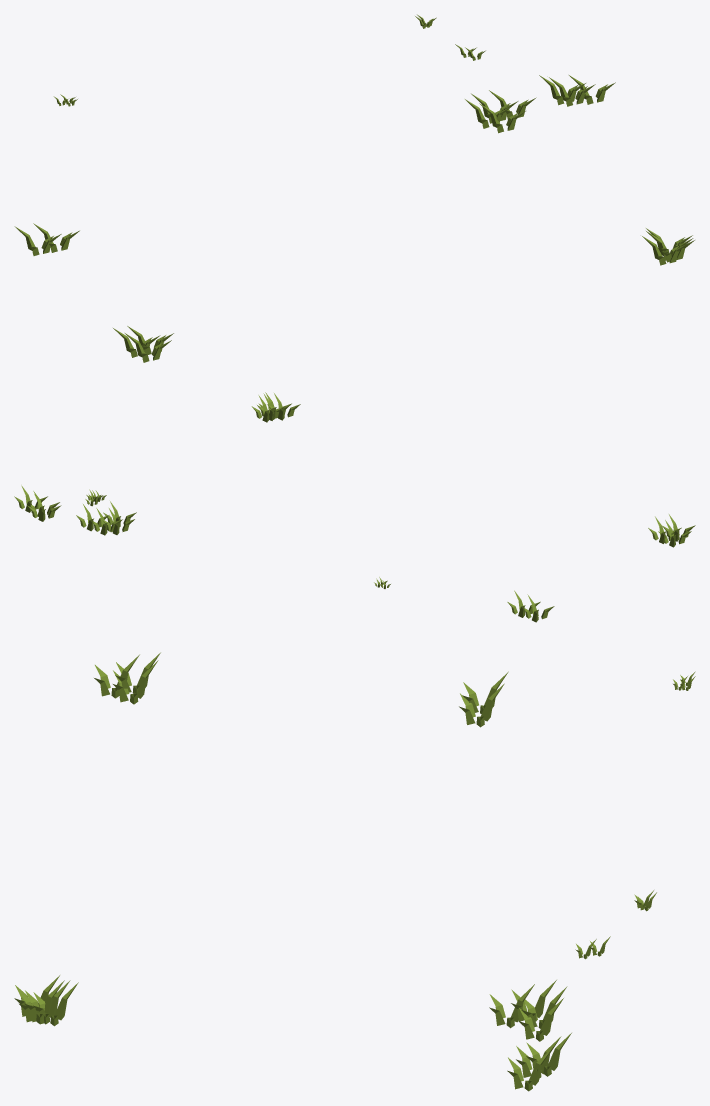
The model's file is grass-v1.glb.
3 renders of one model, top to bottom at view 1: azimuth 30°, elevation 25°; view 2: azimuth 150°, elevation 25°; view 3: azimuth 270°, elevation 25°, orthographic. The views are drawn at different scales.
Bounding box in the file's own units: 4.04 × 0.4951 × 2.8.
